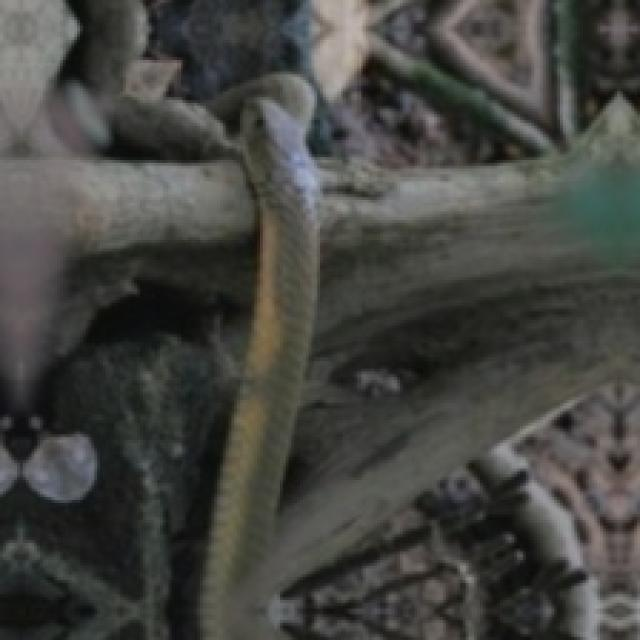king cobra: (231, 160, 637, 637), (200, 97, 317, 637)
